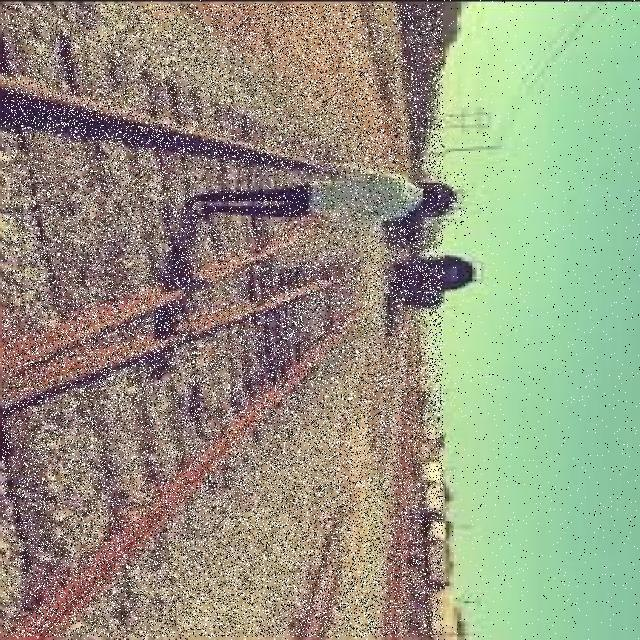danger: (196, 172, 467, 226)
rail: (3, 4, 443, 637)
